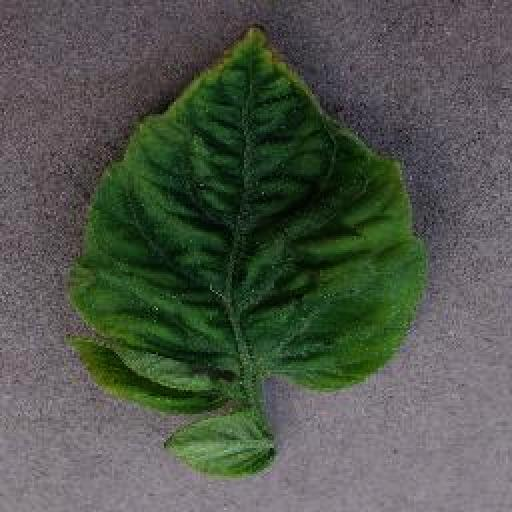disease_tomato: (66, 24, 432, 410)
